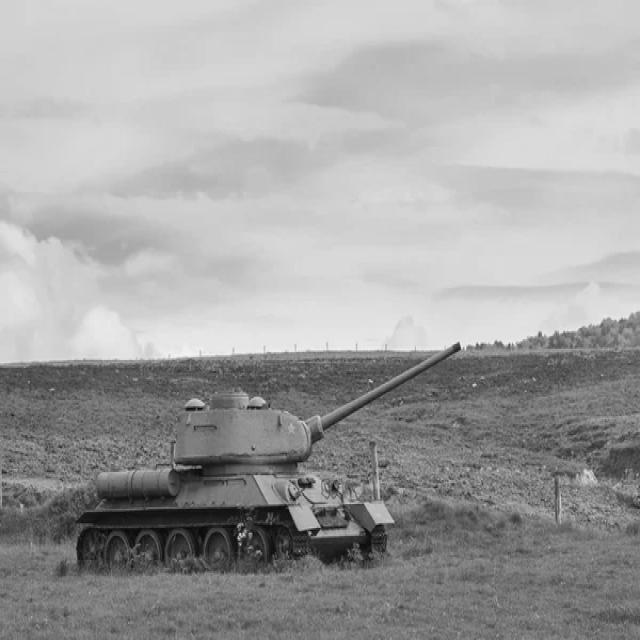Tank: (65, 308, 481, 584)
